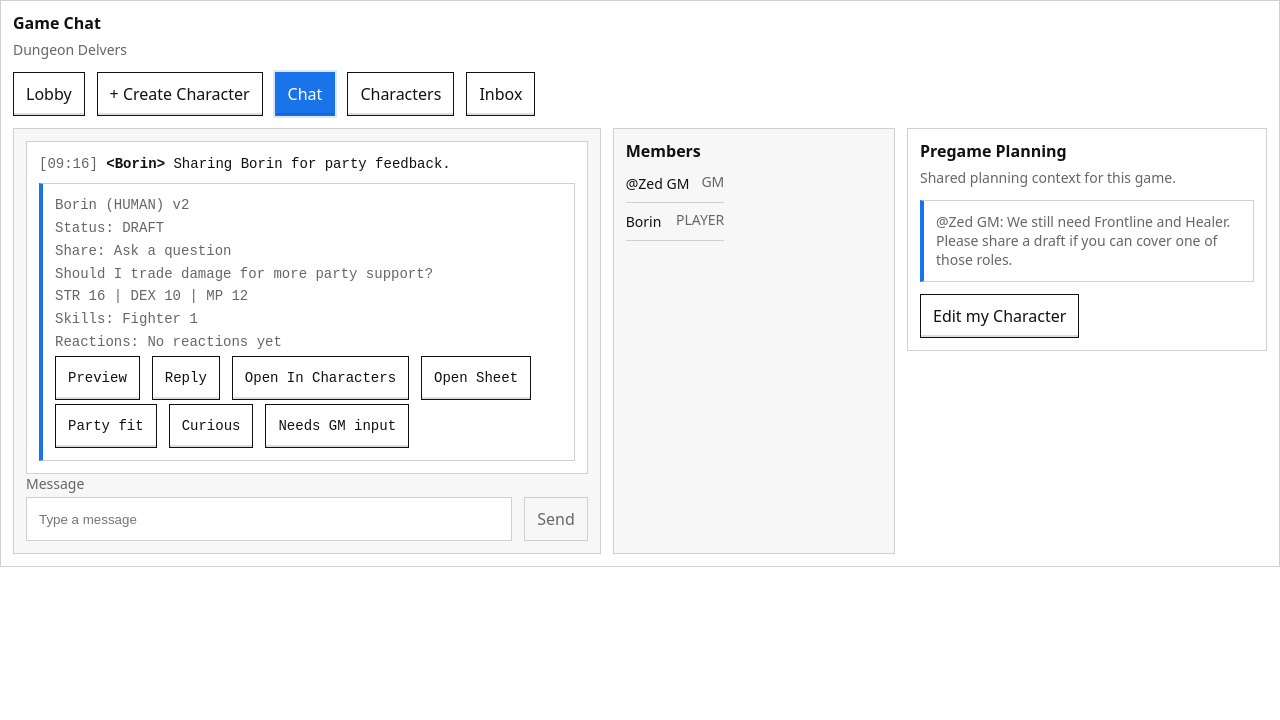
Test: GameChatPage › submits low-friction reaction artifacts for shared drafts
Click the button "Party fit".
click(106, 426)  # box left=55, top=404, right=157, bottom=448
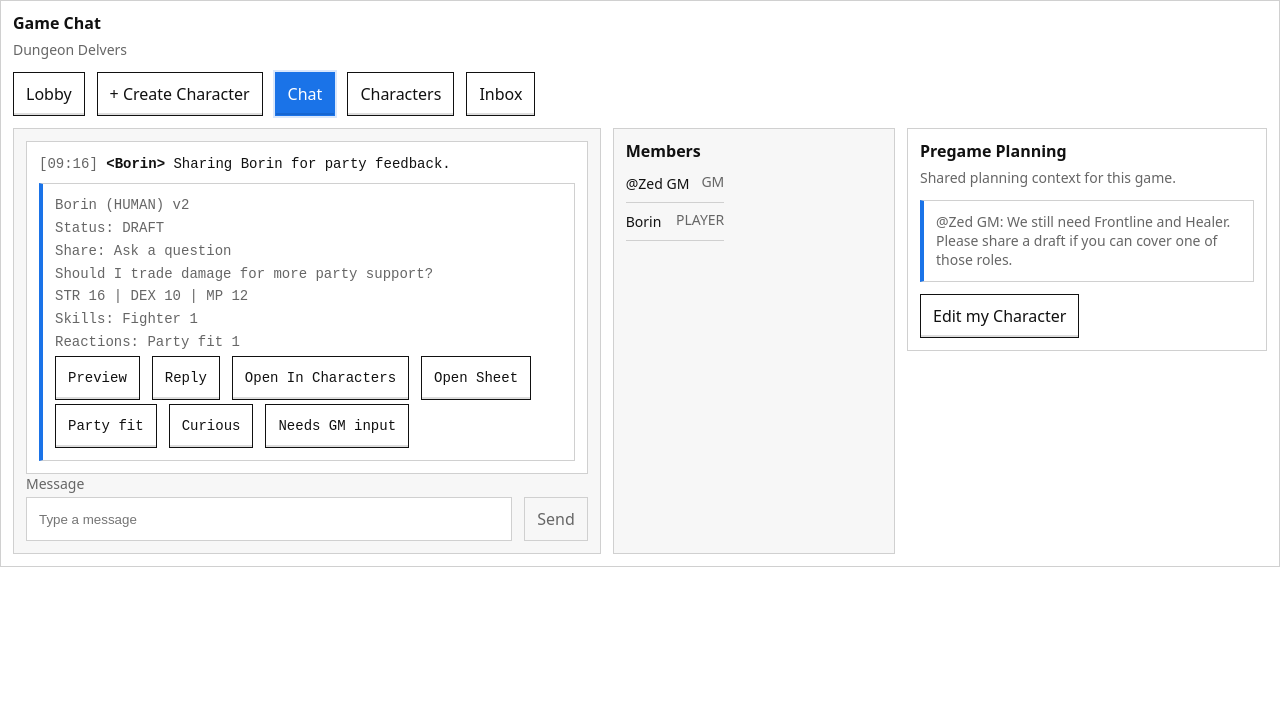
Now the text "Reactions: Party fit 1" is shown, box left=55, top=333, right=240, bottom=352
